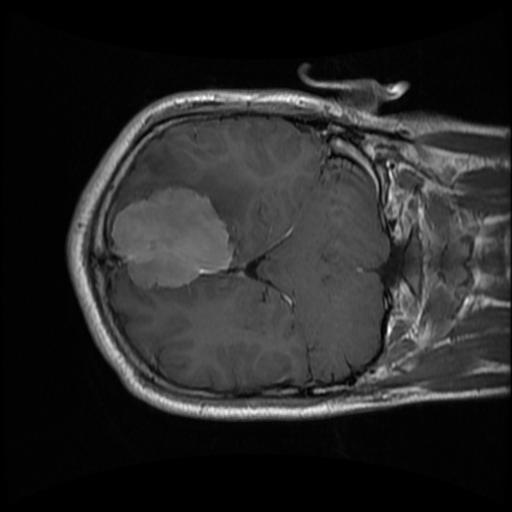meningioma: (110, 188, 231, 289)
